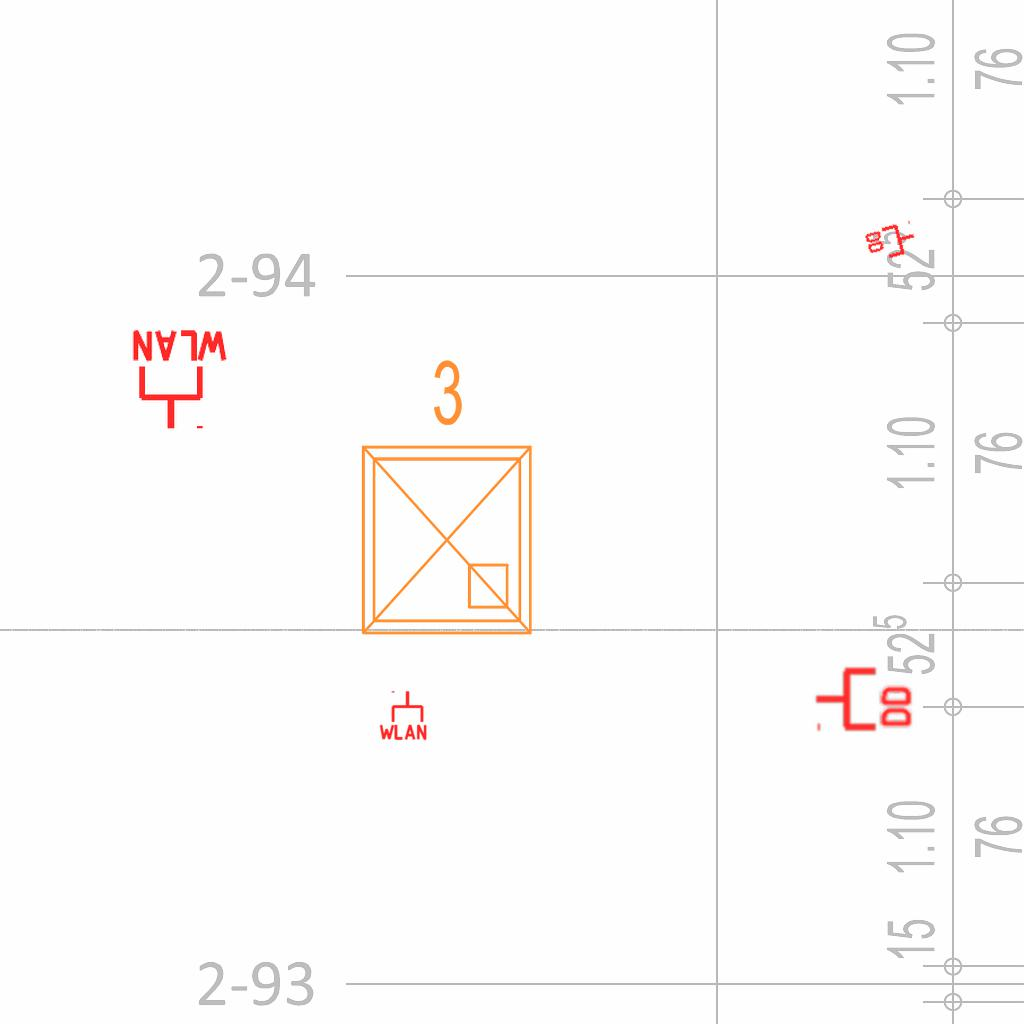Datenanschluss_zweifach: (813, 663, 916, 732), (861, 219, 921, 266)
Einbaudownlights_LED_Konferenzraeume: (339, 349, 547, 649)
WLAN: (128, 328, 232, 433), (377, 689, 429, 741)
